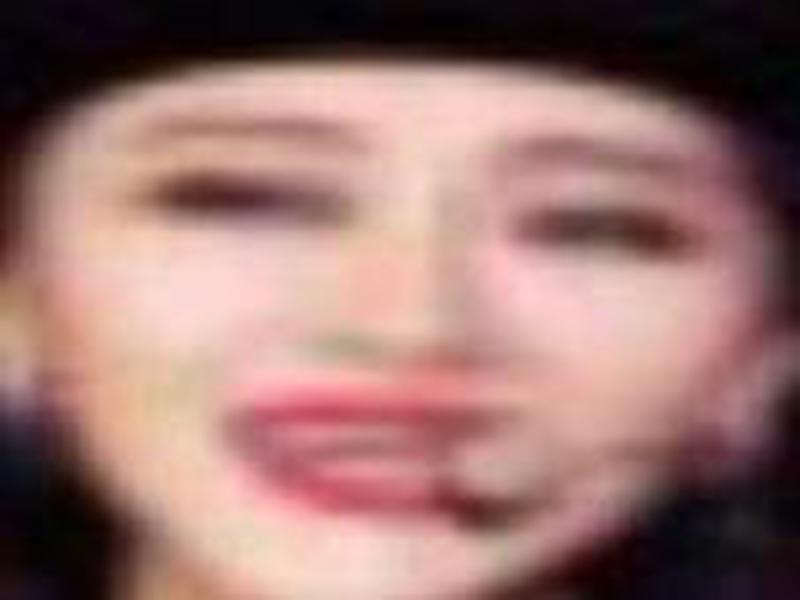without_mask: (27, 70, 763, 584)
